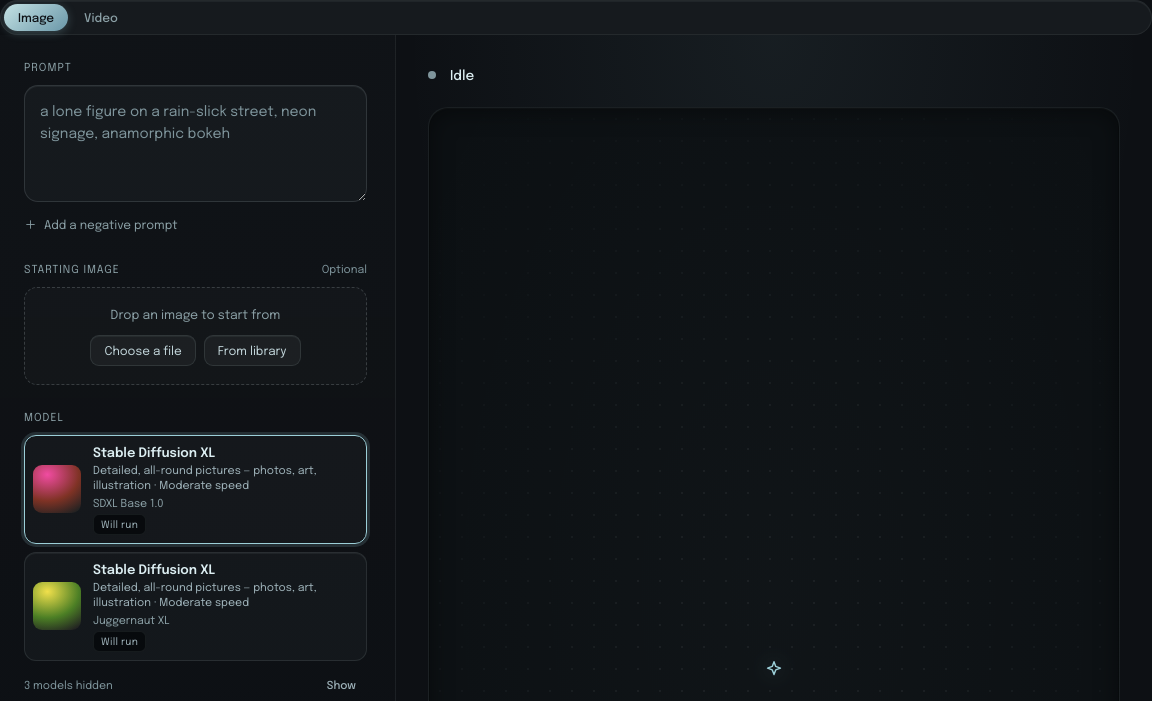
Test: what the picker hides › explains an empty grid instead of drawing nothing
Expected: the radio button named "SDXL Base" is shown, left=24, top=435, right=367, bottom=544
Click the radio button labelled "Video": click(101, 18) left=70, top=4, right=132, bottom=31
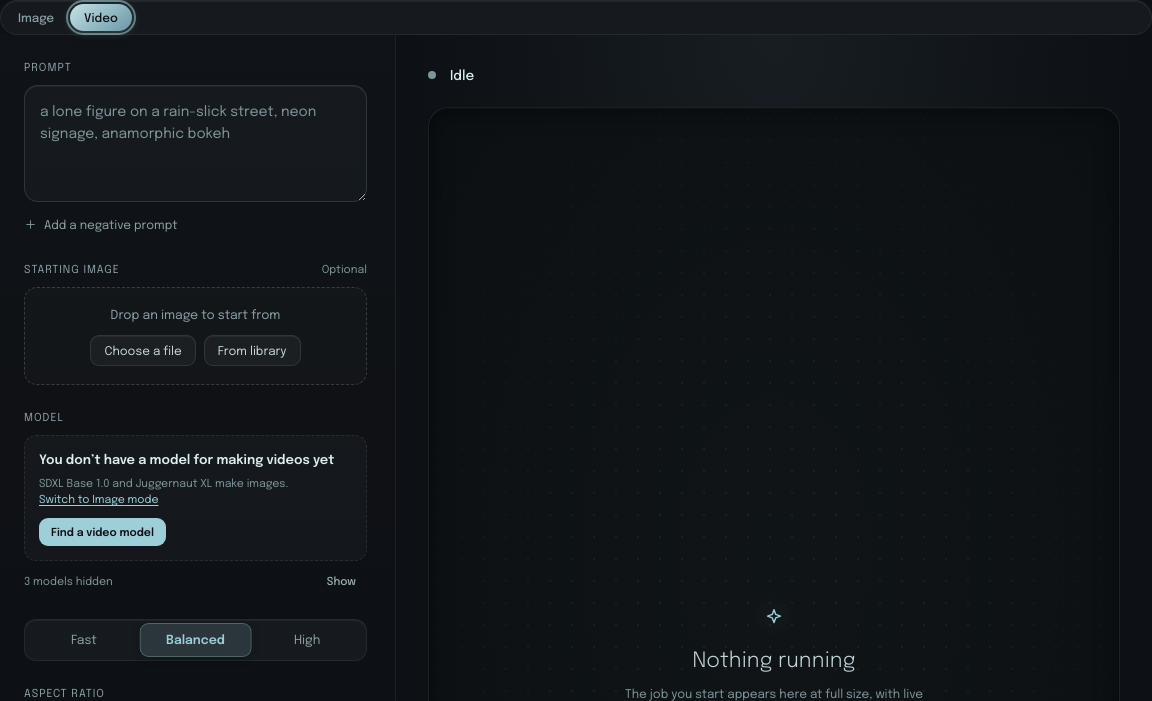
Now the text "You don’t have a model for making videos yet" is shown, box left=39, top=450, right=334, bottom=469
Now the button "Switch to Image mode" is shown, box left=39, top=491, right=159, bottom=508
